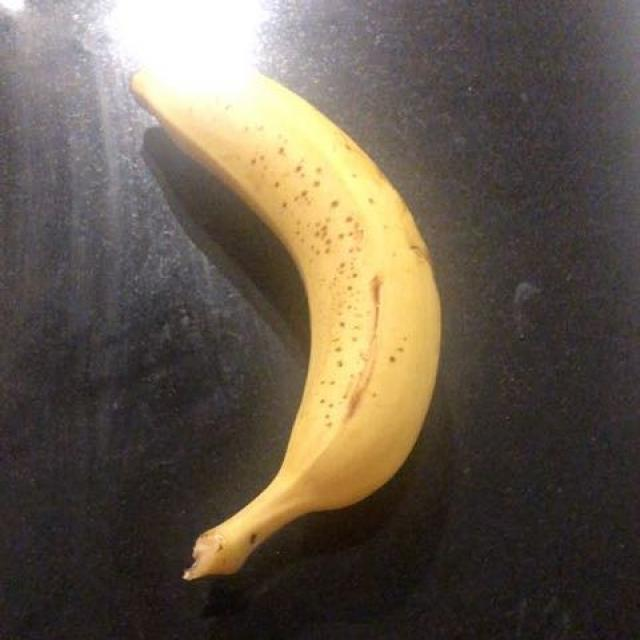banana: (153, 75, 437, 583)
